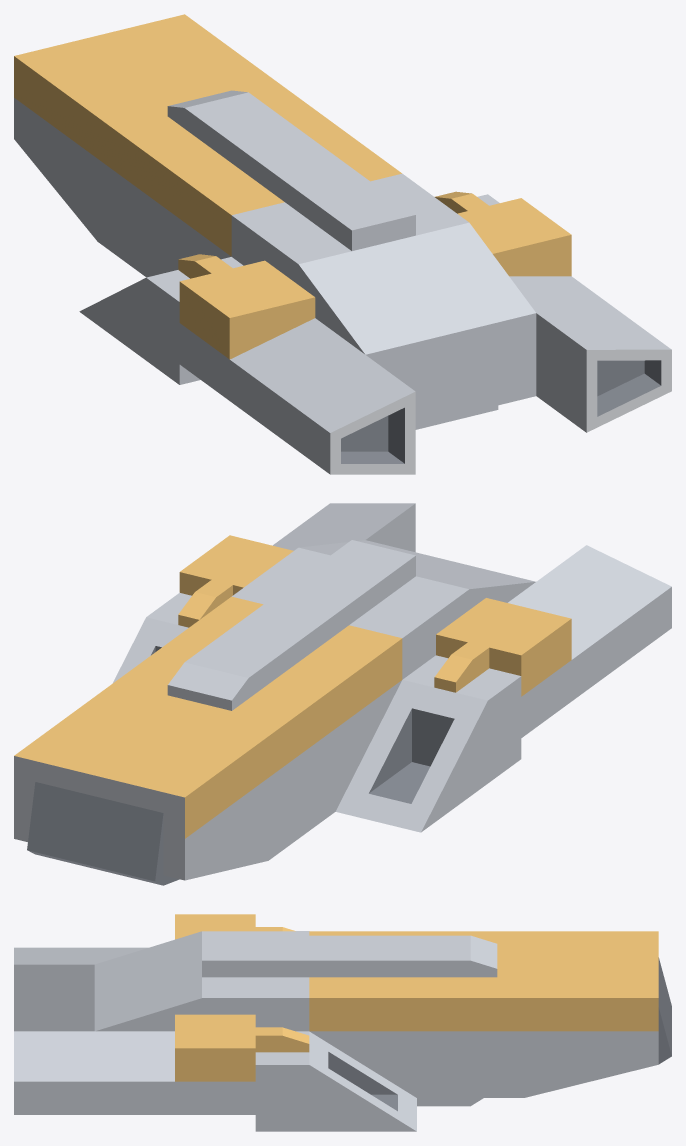
The model's file is dreadnought.glb.
3 renders of one model, top to bottom at view 1: azimuth 30°, elevation 25°; view 2: azimuth 150°, elevation 25°; view 3: azimuth 270°, elevation 25°, orthographic. The views are drawn at different scales.
Parts seen in each view (by area): view 1: craft_cargoA; view 2: craft_cargoA; view 3: craft_cargoA.
Boxes of the visible parts, left/top/right/bottom form: craft_cargoA: left=14, top=14, right=671, bottom=474; craft_cargoA: left=14, top=503, right=671, bottom=885; craft_cargoA: left=14, top=914, right=671, bottom=1131.
Size of the model in its own units: 2.24 by 1.04 by 4.66.
